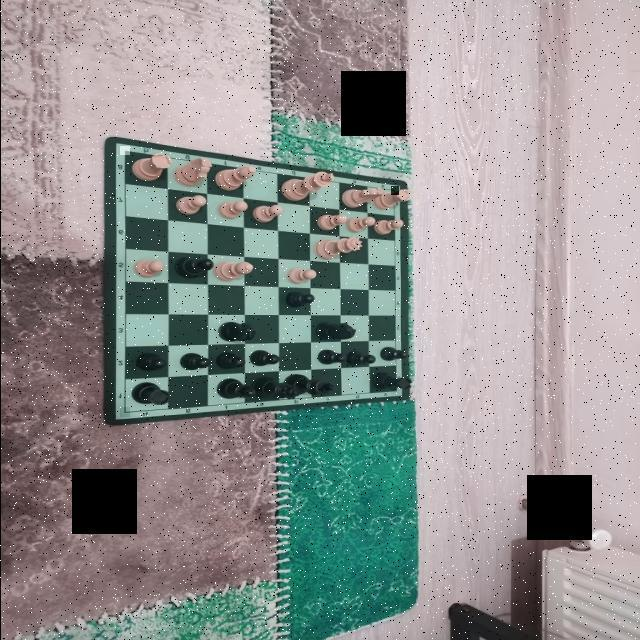chess-table-corners: (119, 407, 129, 417), (119, 146, 129, 155), (390, 387, 400, 395), (390, 186, 398, 195)
